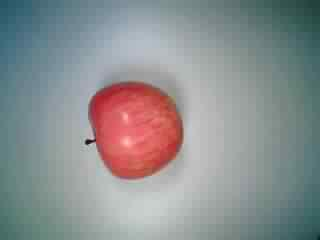apple: (80, 80, 185, 182)
